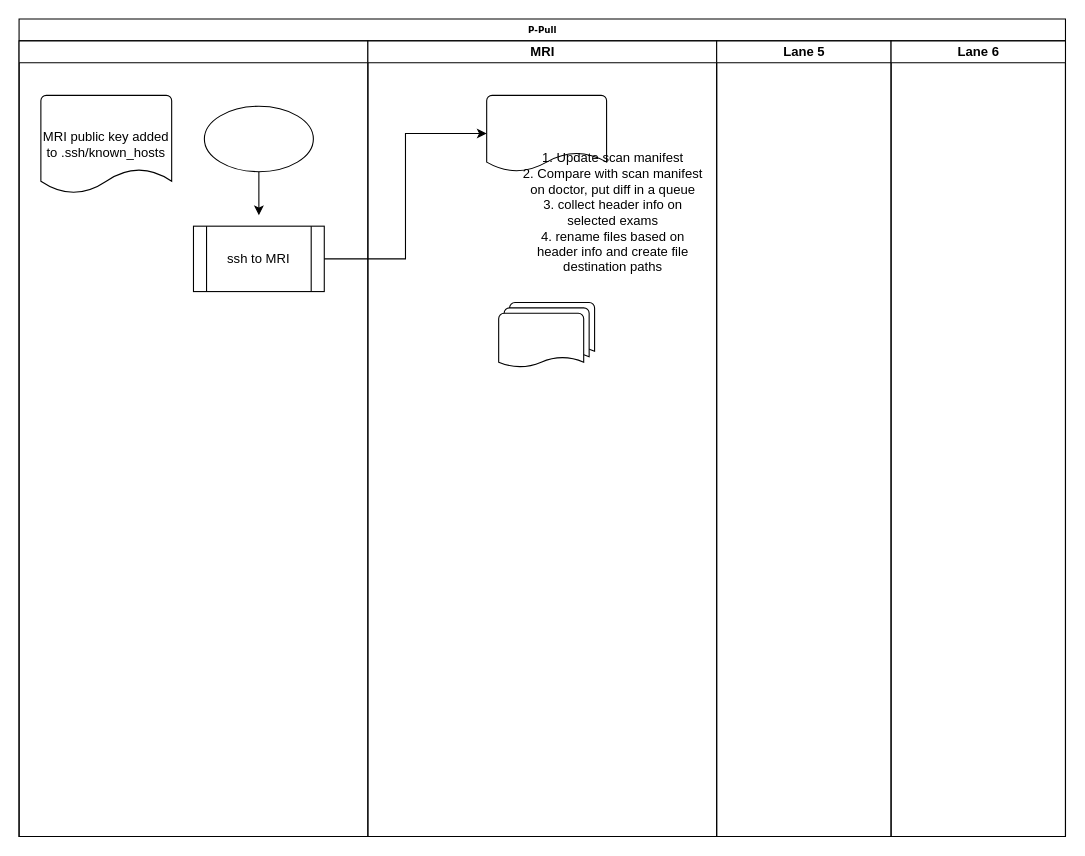
The diagram is 1085 pixels wide and 856 high, and some of its shapes have lost their labels. Here are the shapes that lost their labels. From the top down, the box of each, then its label:
(203, 105, 313, 172): Cron schedule
(486, 94, 607, 172): p-push.py on MRI
(18, 40, 368, 837): DOCTOR
